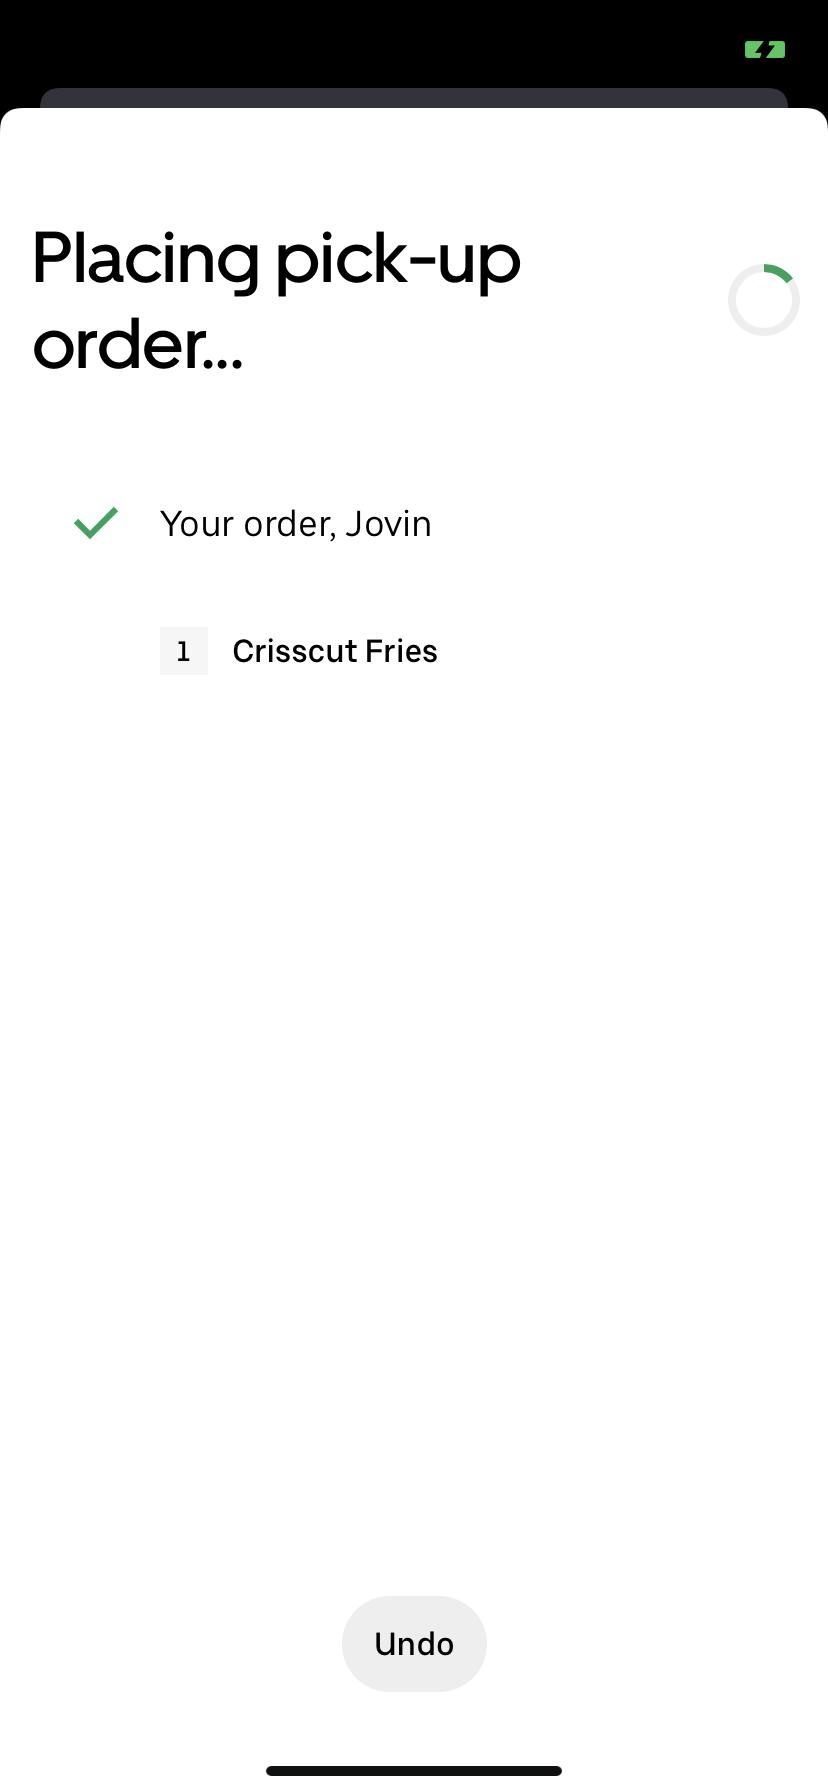Buttons: (323, 1599, 495, 1695)
Progress indicators: (716, 242, 809, 351)
